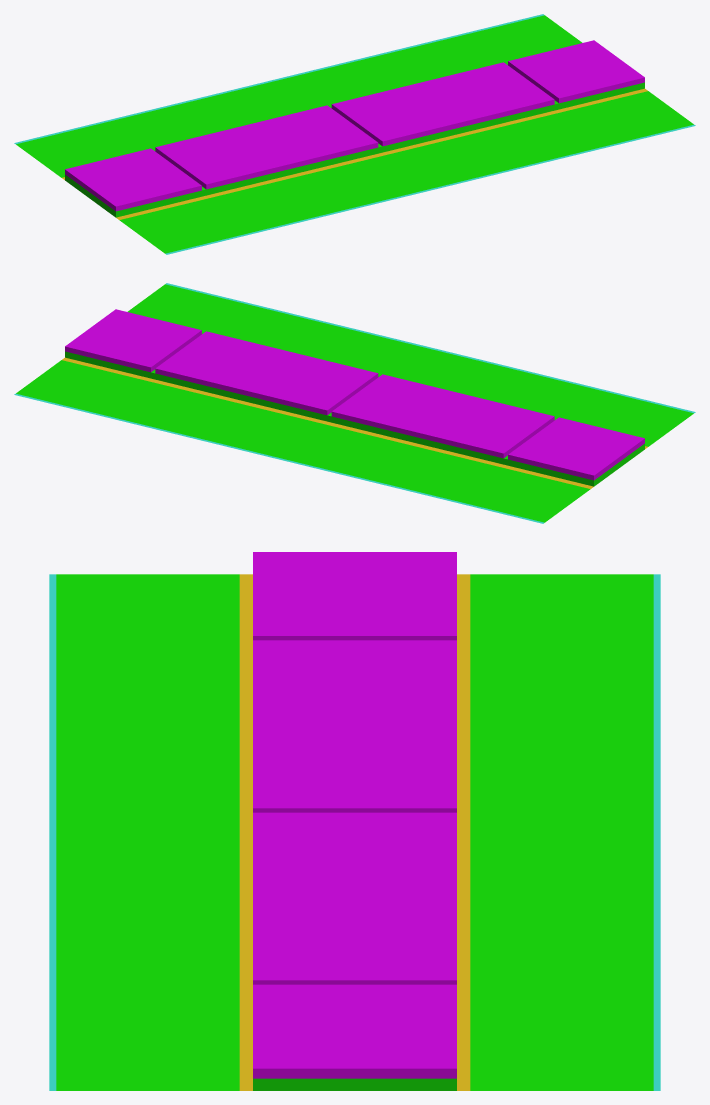
The model's file is Interior_Deco_11.fbx.
3 renders of one model, top to bottom at view 1: azimuth 30°, elevation 25°; view 2: azimuth 150°, elevation 25°; view 3: azimuth 270°, elevation 25°, orthographic. The views are drawn at different scales.
Parts seen in each view (by area): view 1: Interior_Deco_11; view 2: Interior_Deco_11; view 3: Interior_Deco_11.
Part boxes in pixels (<box>): Interior_Deco_11: <box>14,14,695,254</box>; Interior_Deco_11: <box>14,283,695,523</box>; Interior_Deco_11: <box>49,552,660,1090</box>.
Size of the model in its own units: 457 by 9.14 by 229.
